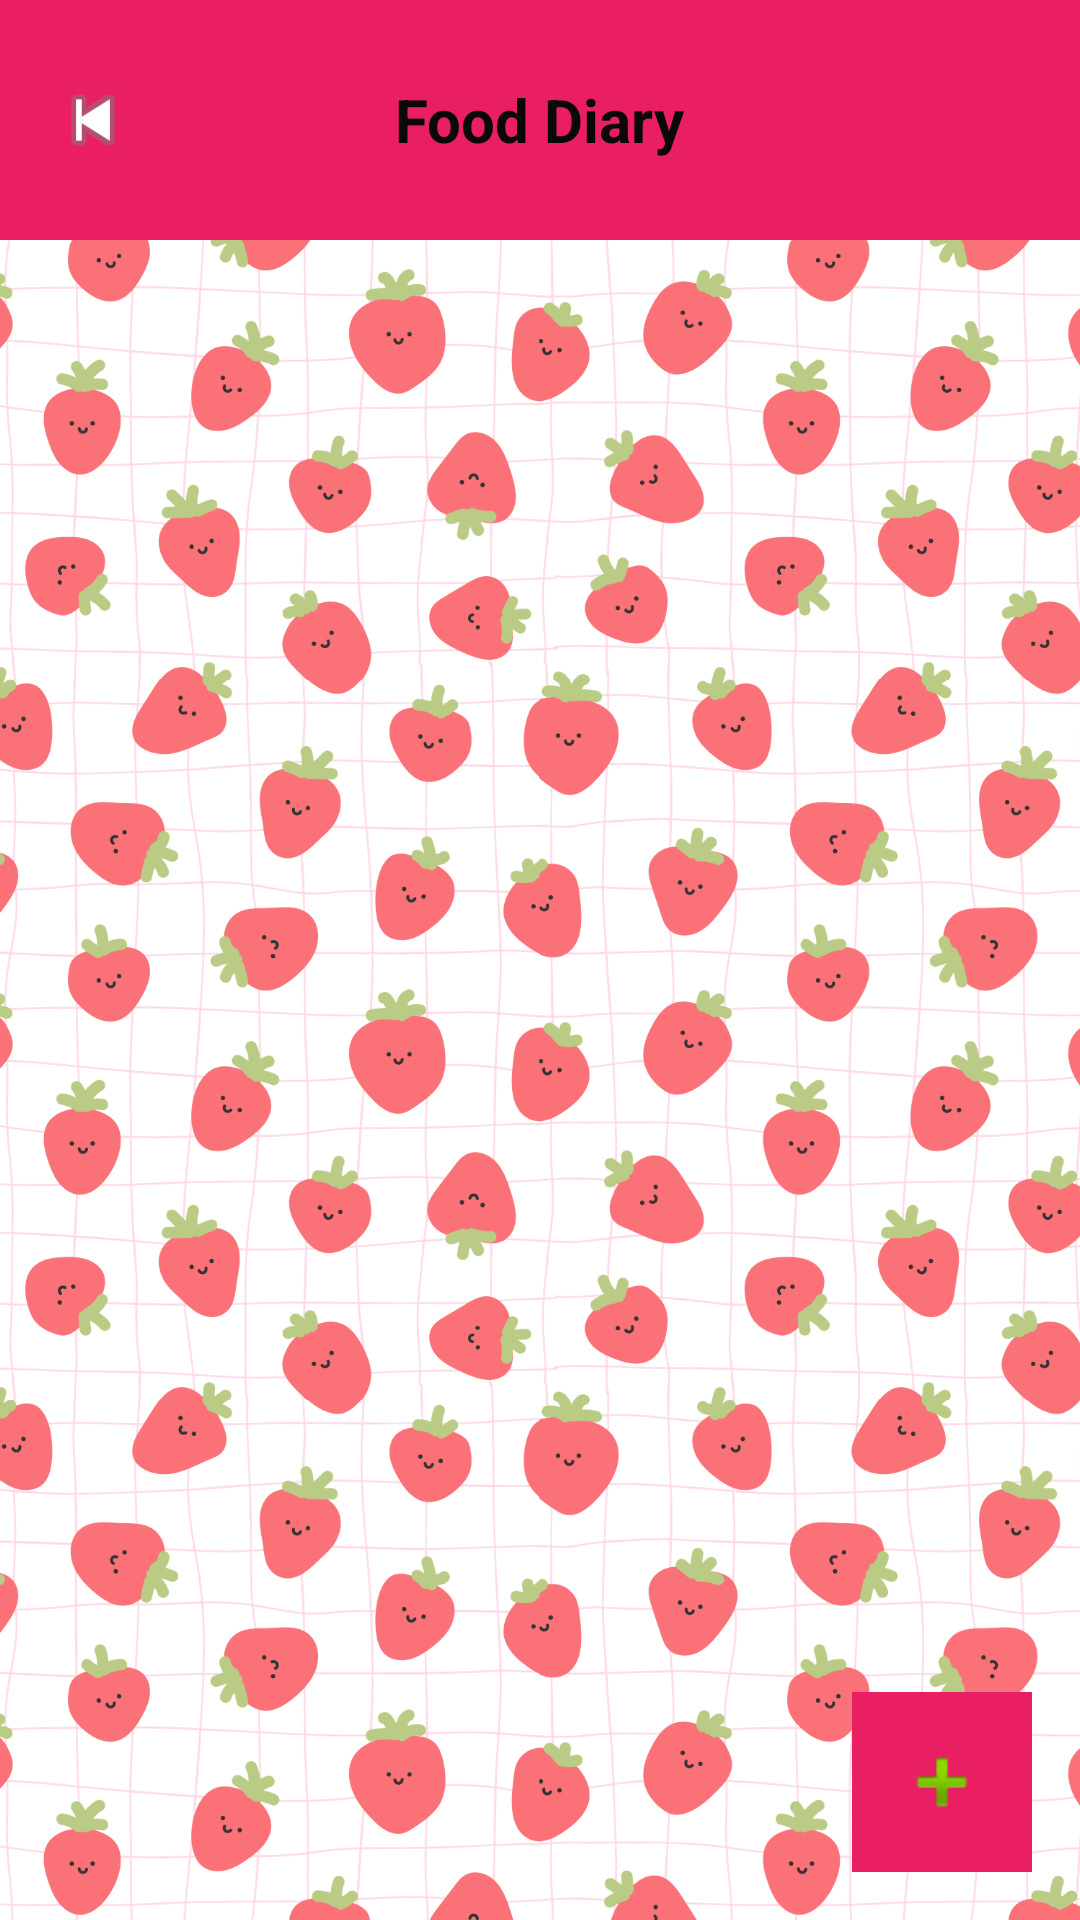

Named icons in this screenshot (1080x1920) and their bounding boxes, (x1, y1, x2, y2):
previous: (71, 95, 115, 145)
